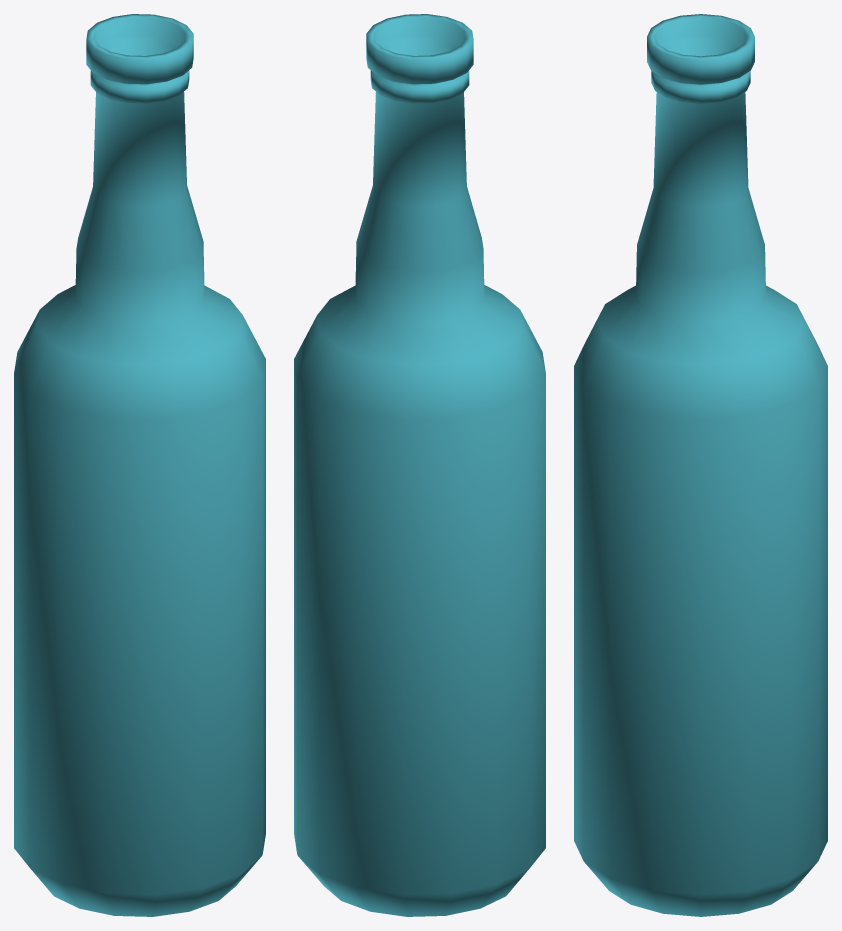
Rendered from WaterBottle.fbx.
3 views of the same model, side by side, from view 1: azimuth 30°, elevation 25°; view 2: azimuth 150°, elevation 25°; view 3: azimuth 270°, elevation 25° (orthographic).
Parts seen in each view (by area): view 1: Plane; view 2: Plane; view 3: Plane.
Part boxes in pixels (x1,y1,x2,y2): Plane: (14,14,265,916); Plane: (294,14,545,916); Plane: (574,14,827,916).
Bounding box in the file's own units: 11.85 × 43.18 × 11.85.
